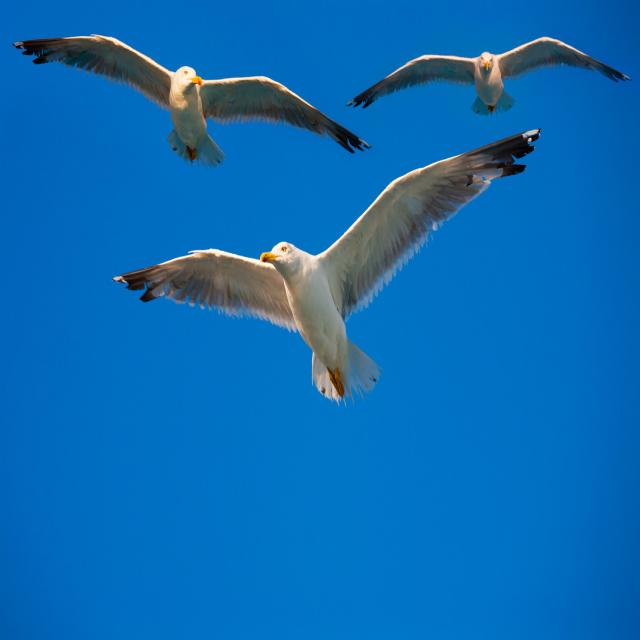bird: (91, 132, 541, 407), (22, 41, 386, 176), (334, 33, 626, 116)
